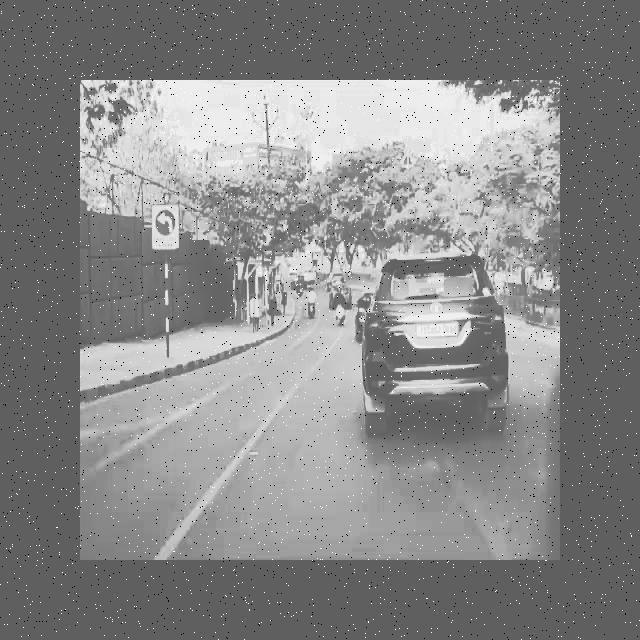Car: (349, 244, 519, 454)
